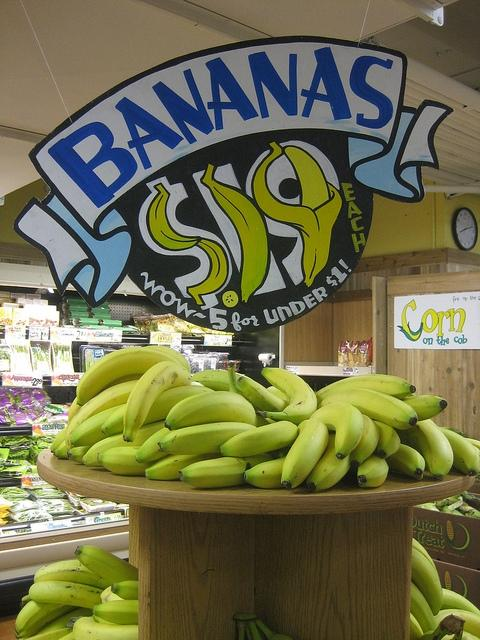asparagus: (66, 345, 72, 373), (18, 344, 23, 374), (26, 346, 30, 370), (41, 347, 46, 361), (88, 352, 92, 368), (63, 345, 66, 362), (38, 352, 44, 360), (61, 353, 63, 372), (0, 354, 3, 359)
banana: (250, 141, 344, 290), (202, 162, 268, 306), (76, 346, 182, 406), (122, 361, 192, 442), (65, 380, 139, 450), (317, 389, 418, 430), (392, 420, 454, 481), (164, 391, 258, 431), (82, 421, 165, 466), (178, 452, 274, 488), (315, 374, 416, 408), (260, 368, 317, 427), (281, 419, 329, 489), (310, 402, 364, 459), (159, 422, 255, 454), (142, 385, 216, 426), (219, 420, 298, 457), (306, 434, 352, 492), (71, 402, 126, 448), (19, 580, 103, 609), (74, 546, 138, 584), (34, 560, 111, 590), (436, 426, 480, 477), (145, 453, 226, 480), (412, 548, 444, 616), (97, 446, 159, 476), (237, 377, 290, 412), (14, 600, 68, 634), (34, 606, 94, 636), (350, 414, 380, 468), (72, 616, 138, 640), (384, 444, 426, 481), (134, 427, 176, 464), (410, 580, 437, 634), (244, 456, 286, 489), (434, 608, 480, 638), (144, 346, 190, 374), (401, 395, 448, 422), (371, 419, 401, 459), (192, 369, 244, 392), (357, 452, 389, 488), (412, 537, 439, 579), (440, 588, 480, 616), (92, 600, 138, 624), (418, 620, 454, 640), (111, 580, 139, 600), (50, 426, 68, 454), (67, 446, 93, 464), (100, 586, 125, 603), (68, 396, 82, 426), (410, 612, 424, 640), (55, 440, 69, 460), (464, 438, 480, 450), (461, 631, 480, 640), (59, 631, 76, 640)
corn: (440, 504, 466, 516), (444, 520, 455, 546), (413, 503, 441, 512), (460, 506, 480, 518), (442, 571, 453, 591), (446, 497, 460, 502)
